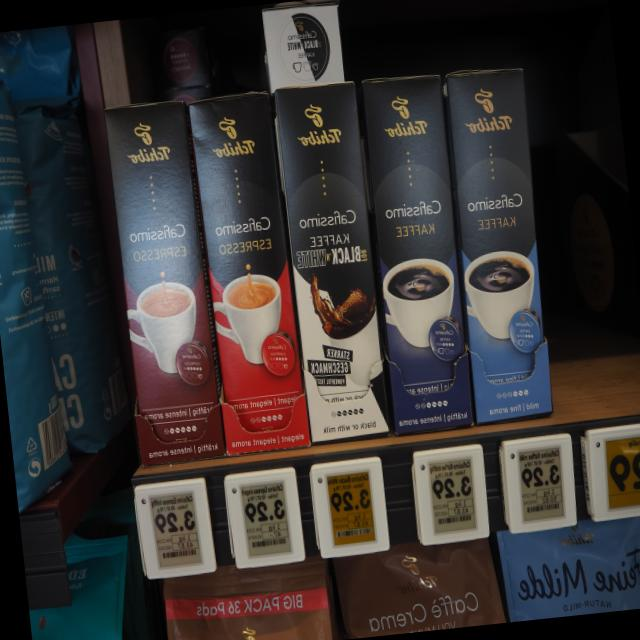Simo Es Elegant: (185, 86, 311, 454)
Simo Es Kraft: (101, 97, 224, 467)
Simo Kaffee BW: (273, 78, 389, 441)
Simo Kaffee Kraft: (357, 71, 475, 431)
Simo Kaffee Mild: (442, 64, 555, 429)
